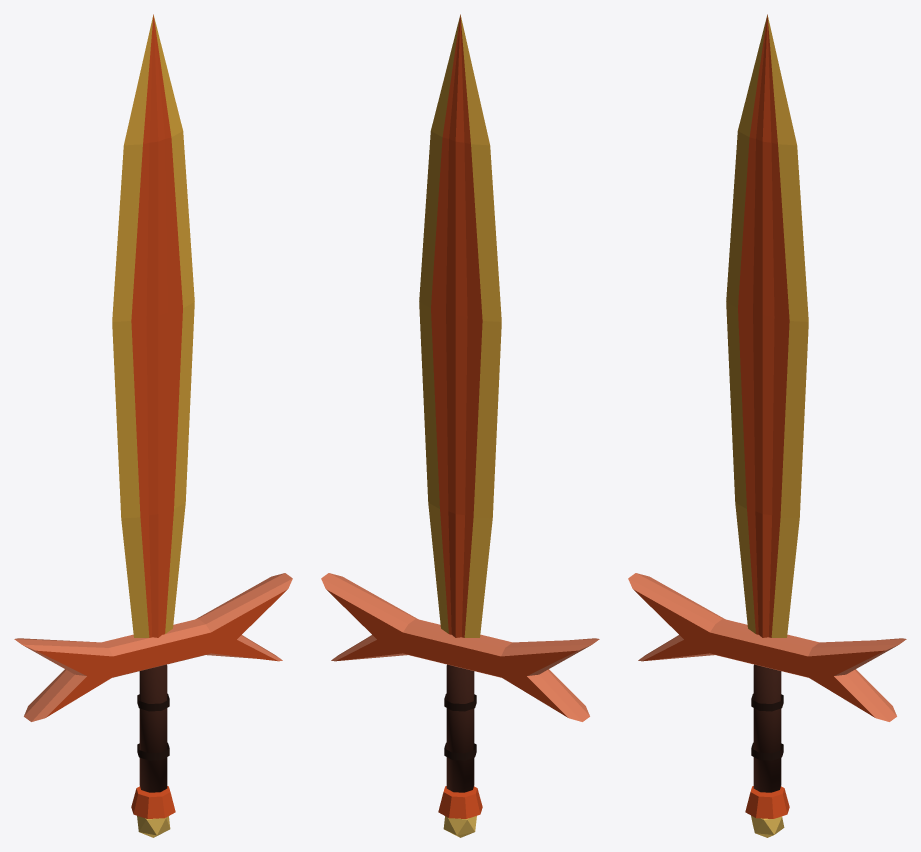
The model's file is hellstone_shortsword.glb.
3 renders of one model, left to right at view 1: azimuth 30°, elevation 25°; view 2: azimuth 150°, elevation 25°; view 3: azimuth 330°, elevation 25°, orthographic.
Parts seen in each view (by area): view 1: hellstone_shortsword_v0; view 2: hellstone_shortsword_v0; view 3: hellstone_shortsword_v0.
Part boxes in pixels (x1,y1,x2,y2): hellstone_shortsword_v0: (14,14,292,837); hellstone_shortsword_v0: (321,14,599,837); hellstone_shortsword_v0: (628,14,906,837).
Size of the model in its own units: 0.462 by 1.34 by 0.068.
